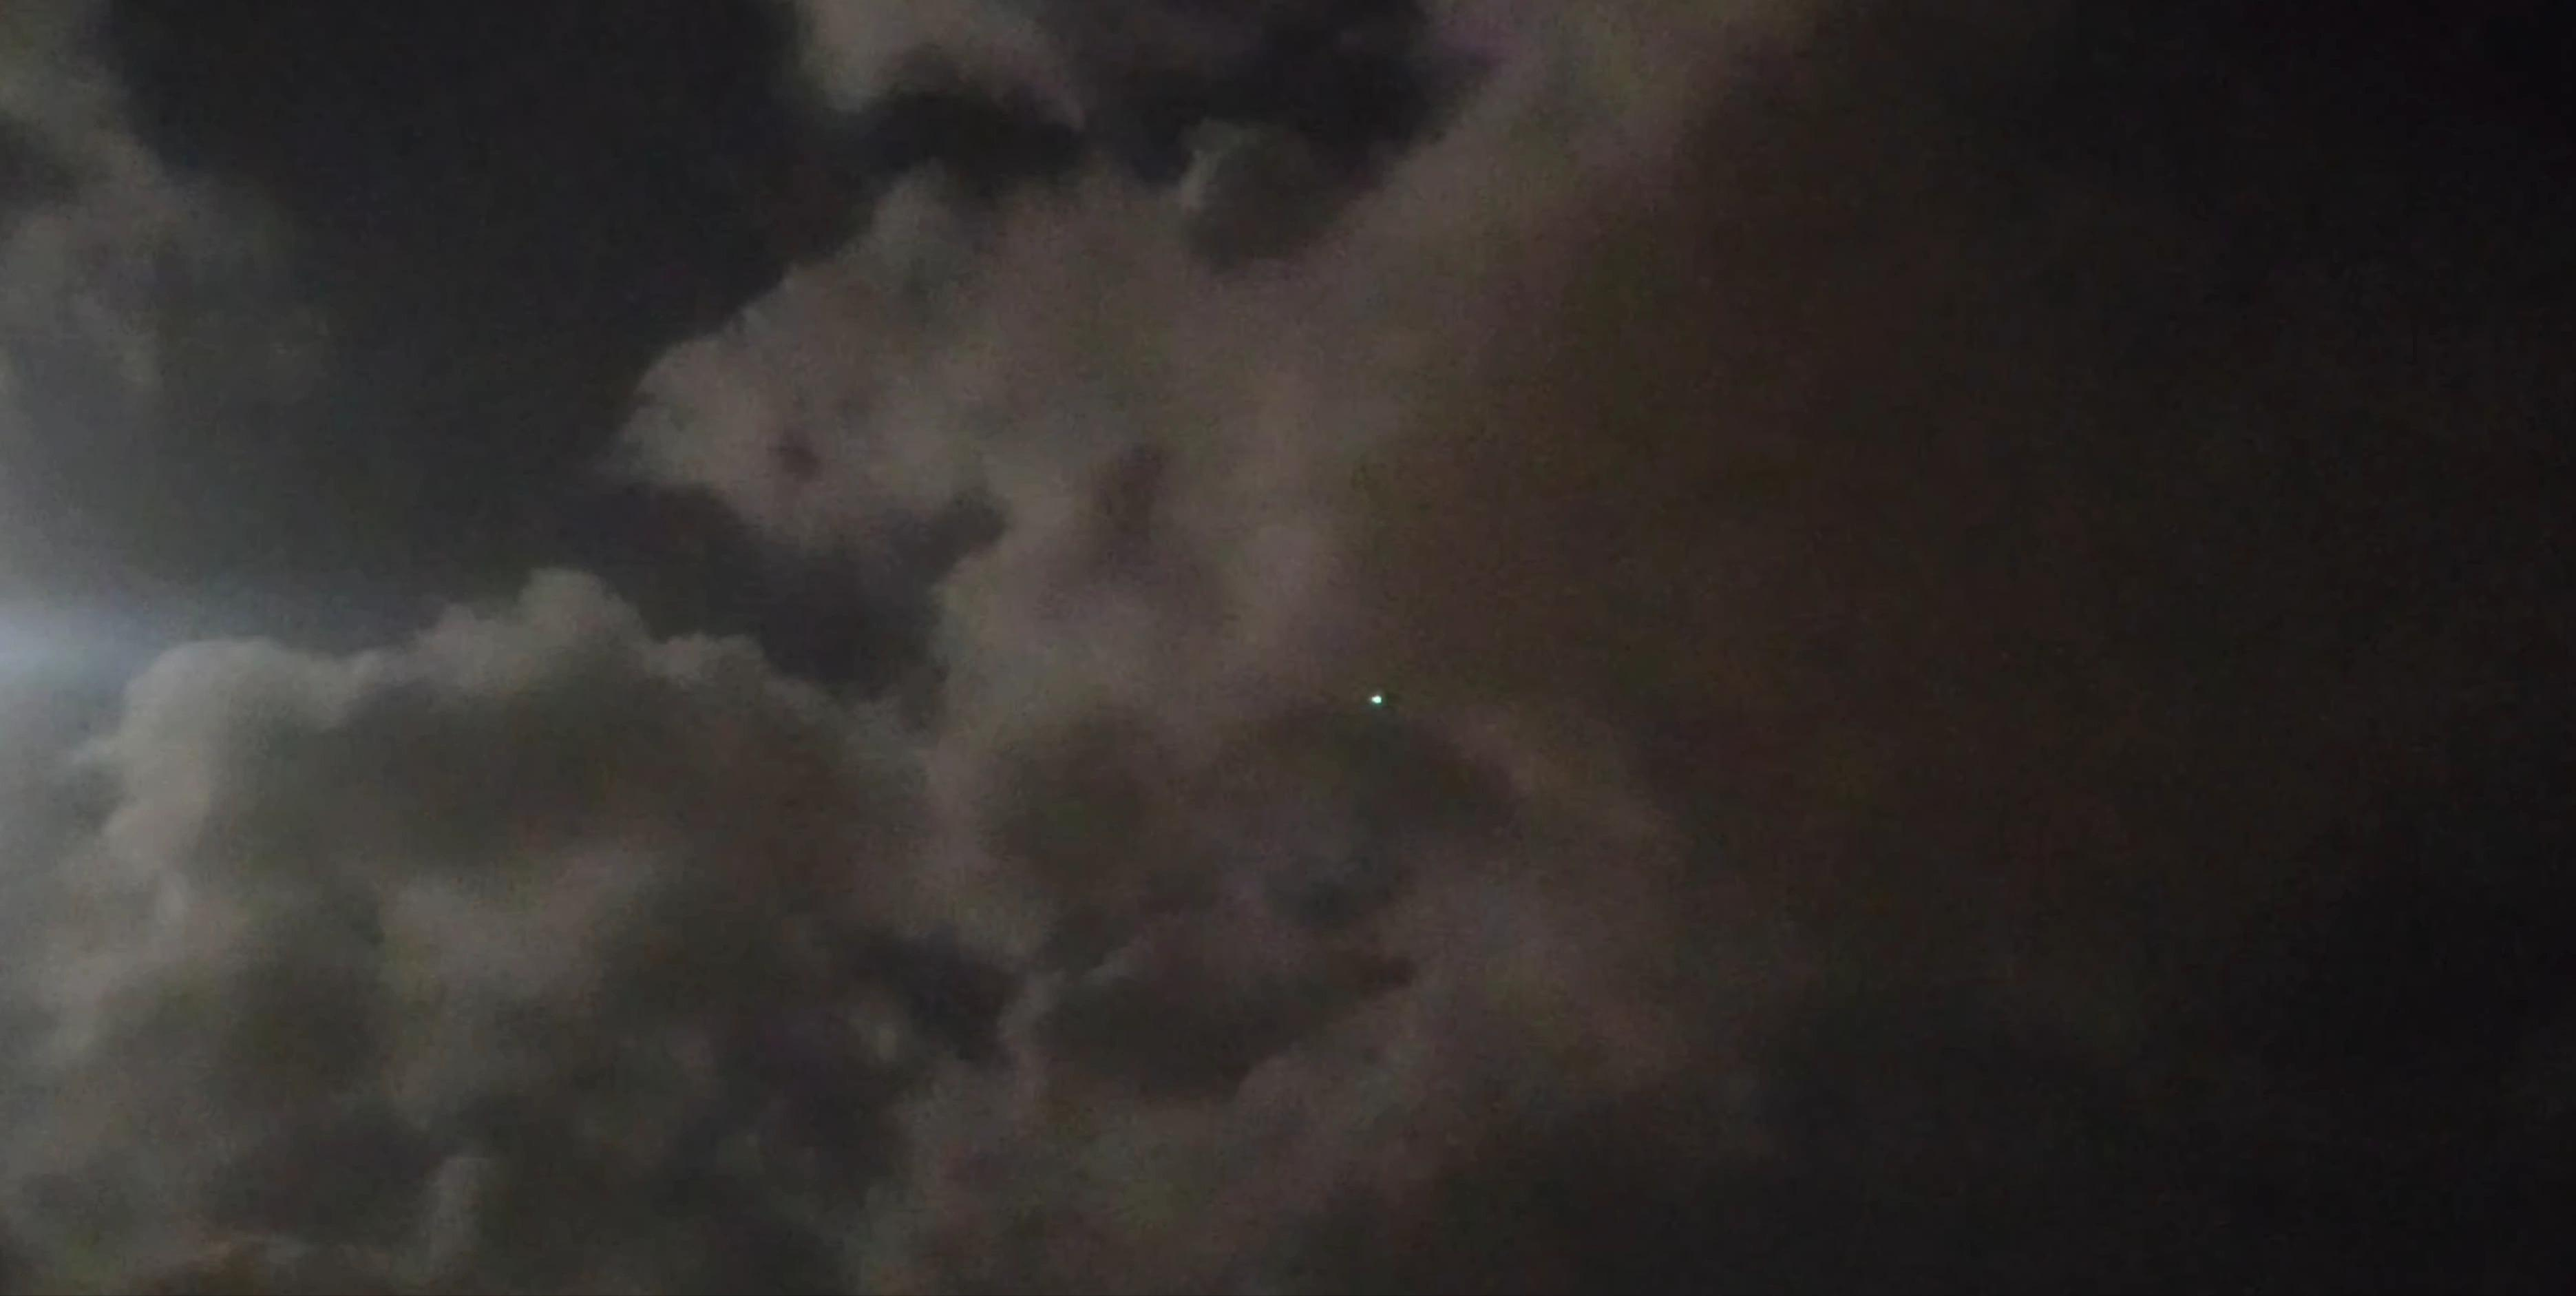Plane: (1348, 669, 1404, 731)
